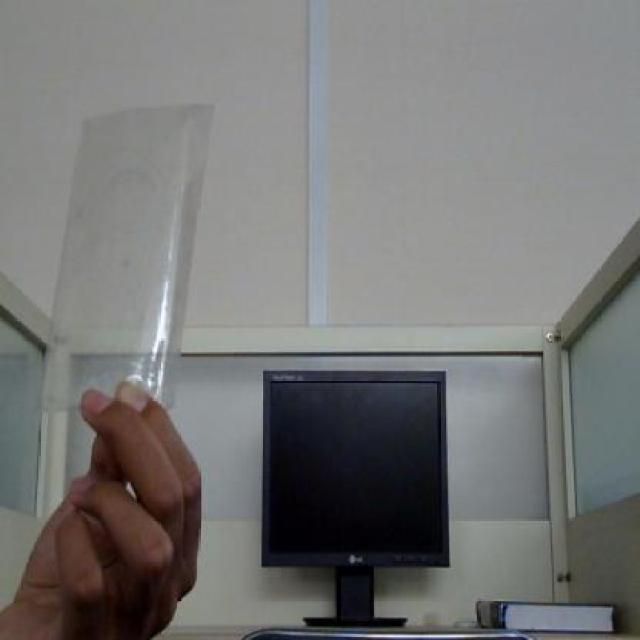Plastic: (39, 101, 215, 372)
